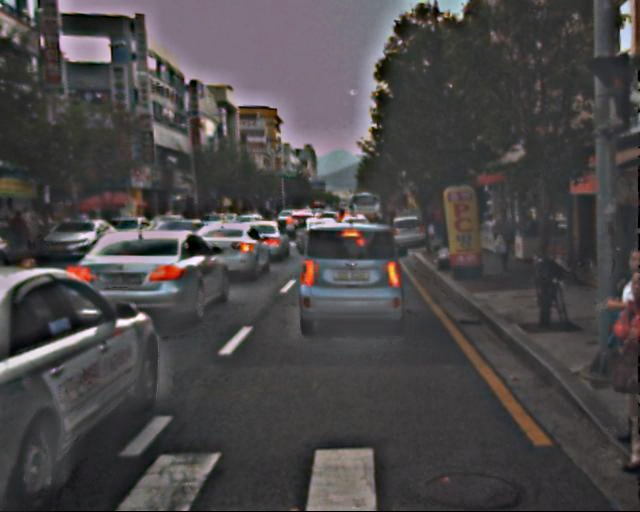person: (590, 273, 640, 464), (591, 244, 640, 435), (492, 207, 521, 278)
